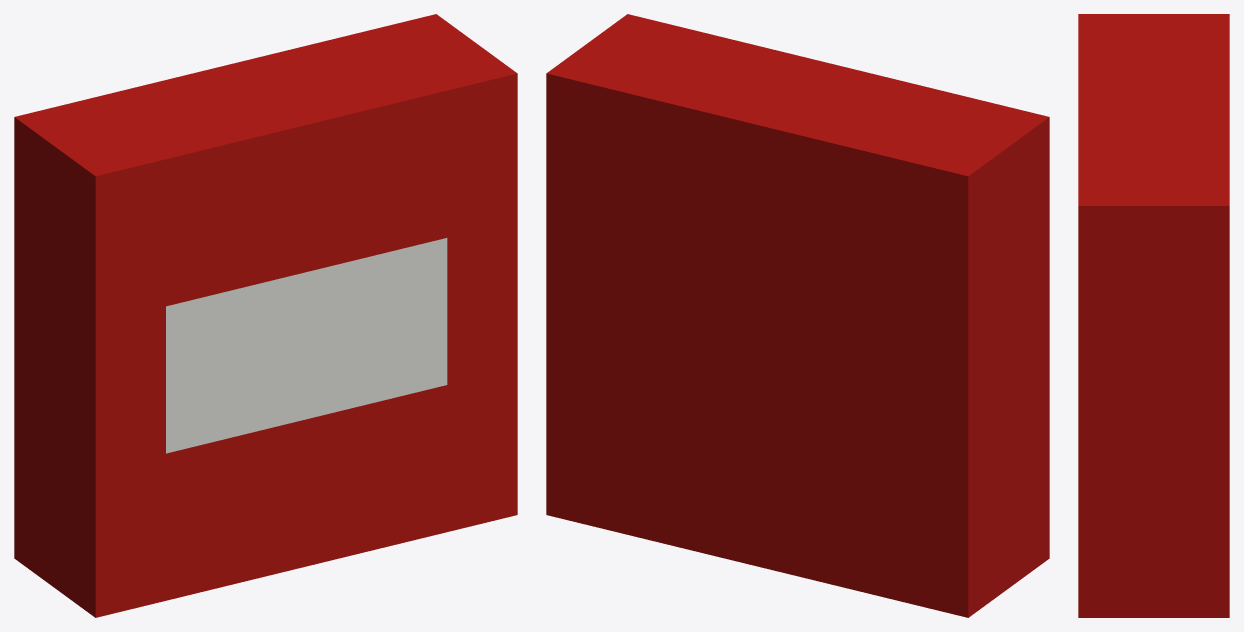
The model's file is motorbike_side_cover.glb.
3 renders of one model, left to right at view 1: azimuth 30°, elevation 25°; view 2: azimuth 150°, elevation 25°; view 3: azimuth 270°, elevation 25°, orthographic. The views are drawn at different scales.
Parts seen in each view (by area): view 1: body:compound; view 2: body:compound; view 3: body:compound.
Part boxes in pixels (x1,y1,x2,y2): body:compound: (14,14,517,617); body:compound: (546,14,1049,617); body:compound: (1078,14,1229,617).
Size of the model in its own units: 0.1875 by 0.1875 by 0.0625.
